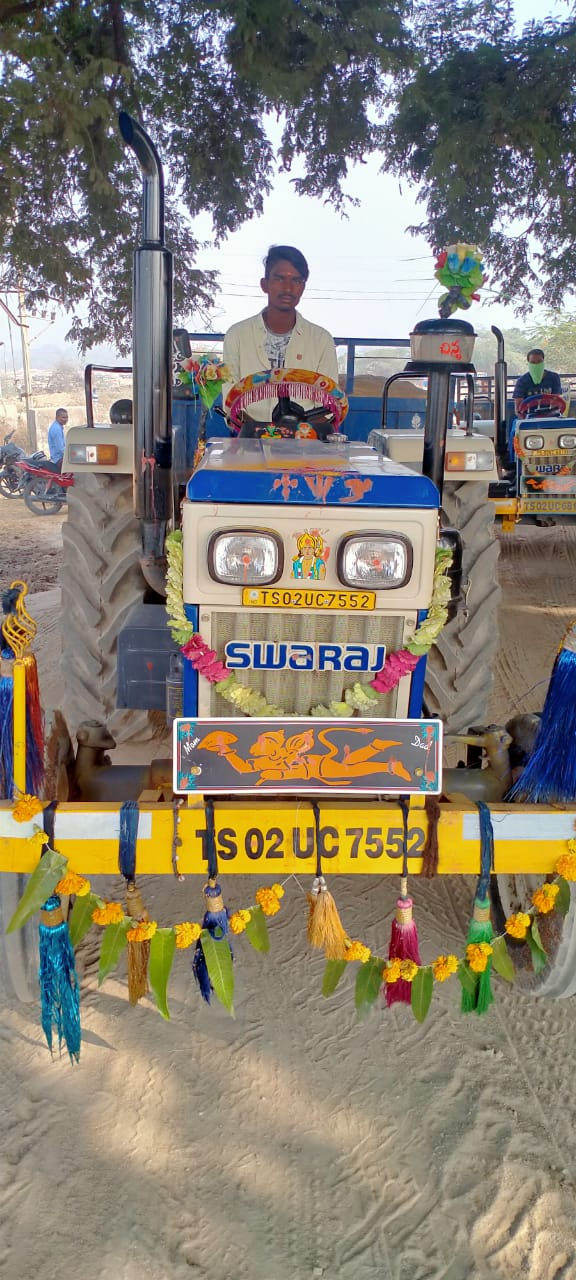license_plate: (186, 815, 434, 868)
